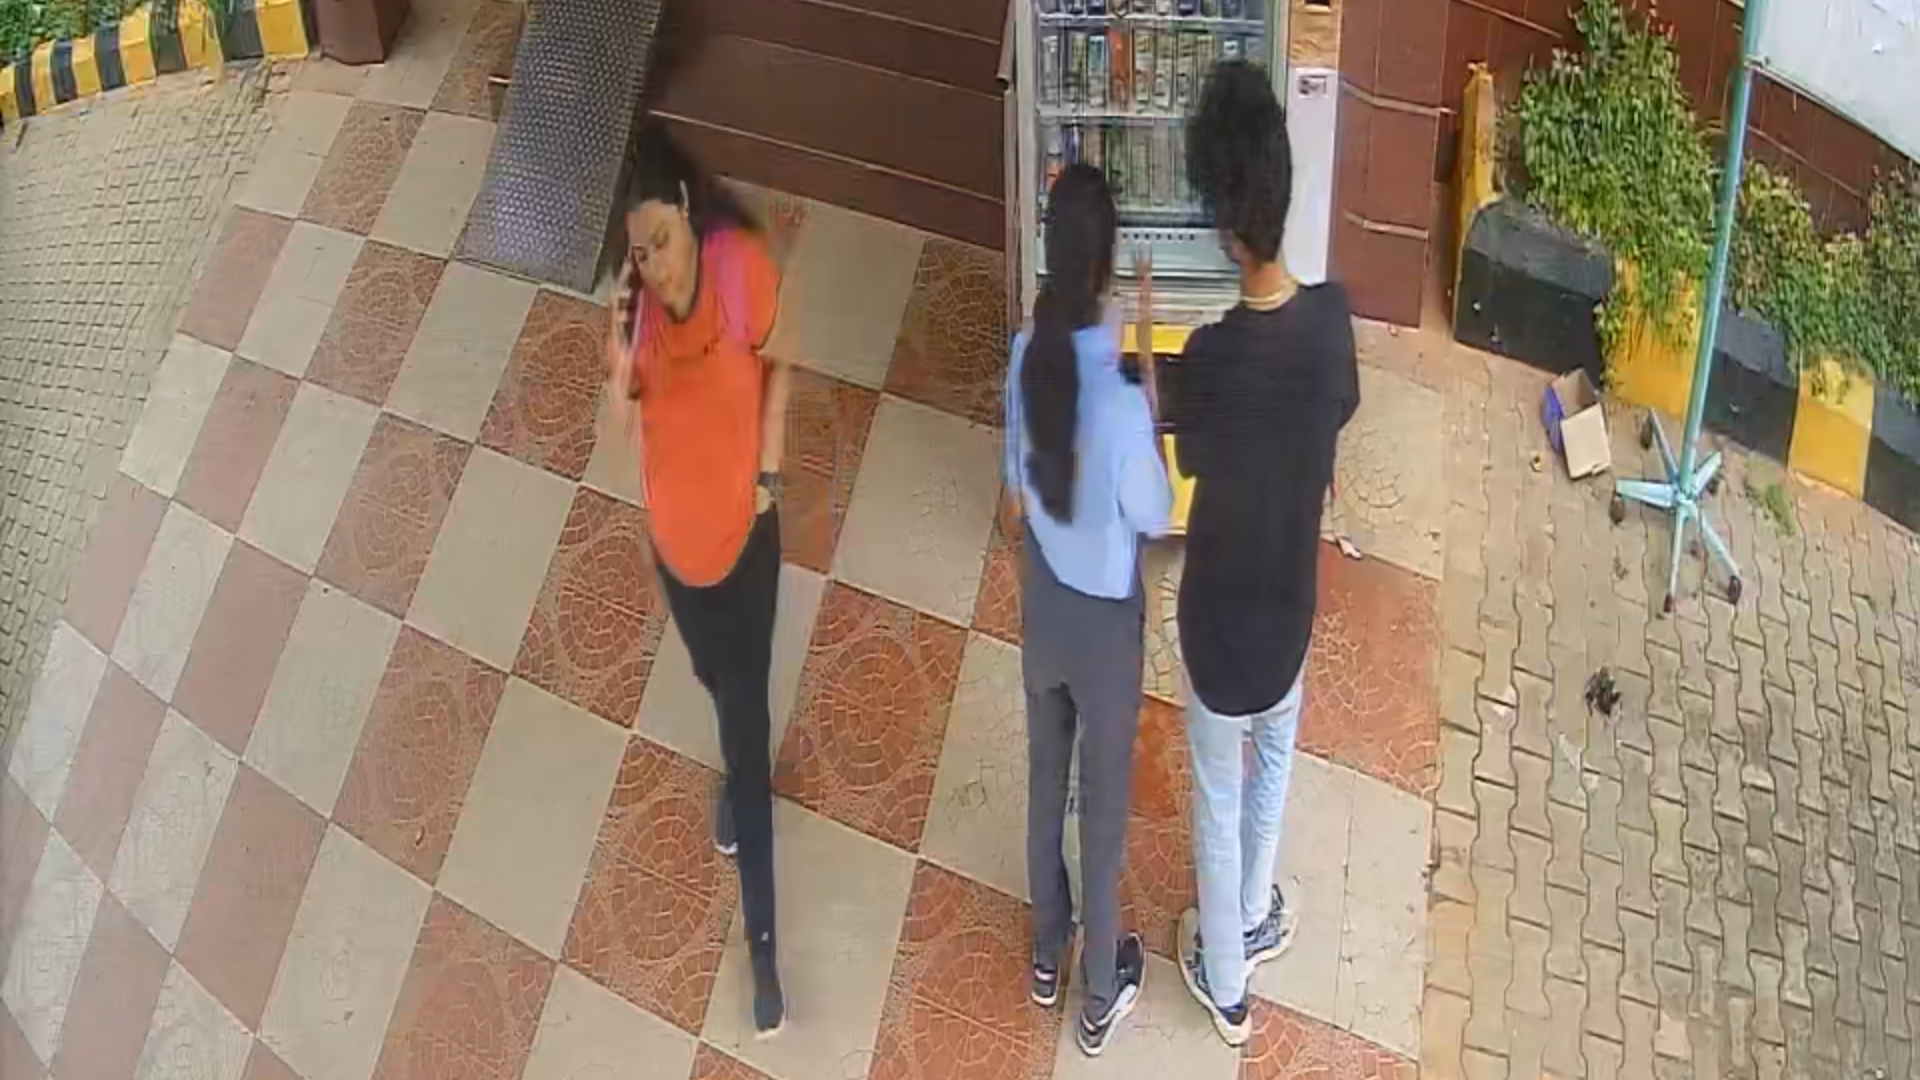intruder: (597, 117, 835, 1033)
